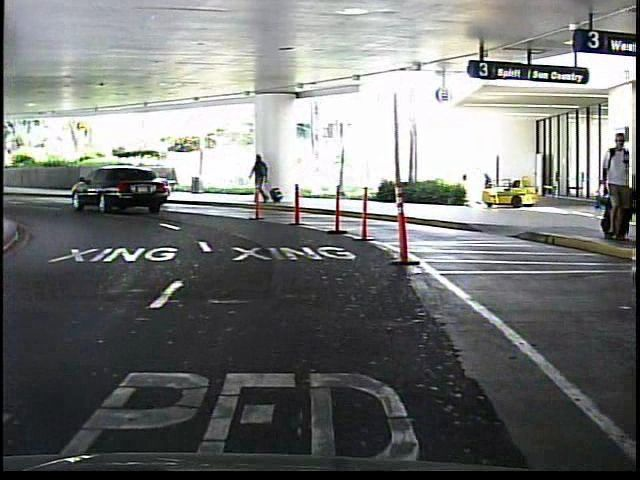person: (592, 119, 634, 247), (250, 151, 275, 208)
